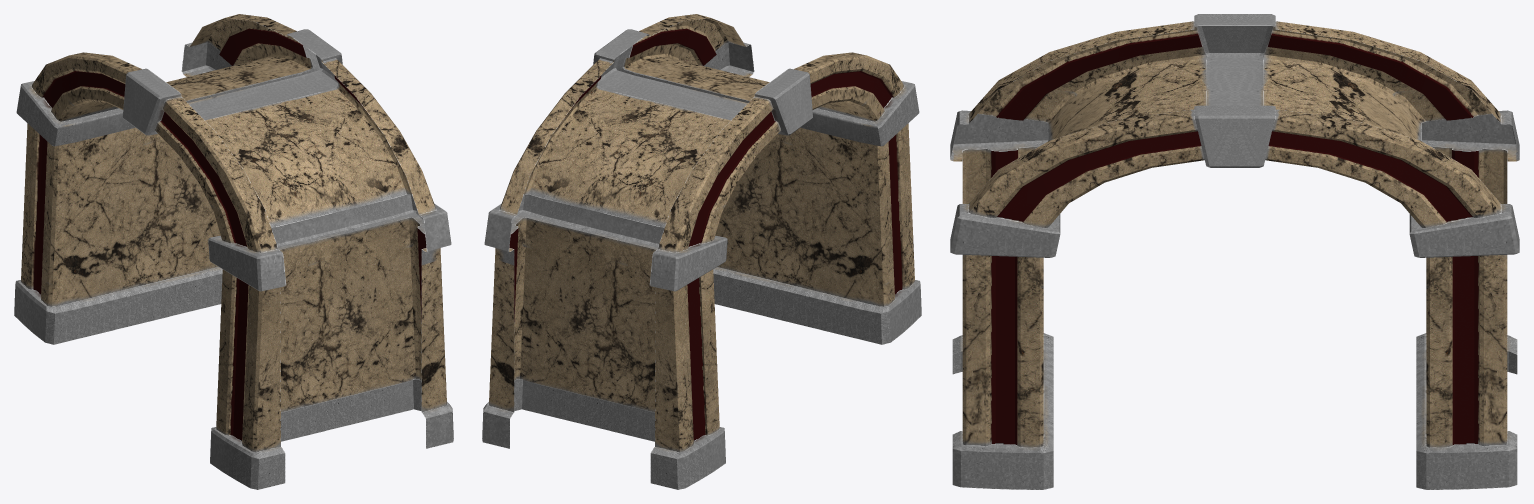
The model's file is large_archway.fbx.
The picture shows the model from 3 angles, left to right: view 1: azimuth 30°, elevation 25°; view 2: azimuth 150°, elevation 25°; view 3: azimuth 270°, elevation 25°; orthographic projection. The views are drawn at different scales.
Visible parts, largest first — view 1: pPipe26; view 2: pPipe26; view 3: pPipe26.
Part boxes in pixels (<box>): pPipe26: <box>14,14,453,489</box>; pPipe26: <box>482,14,921,489</box>; pPipe26: <box>950,14,1519,489</box>.
Bounding box in the file's own units: 95.27 × 135 × 190.
